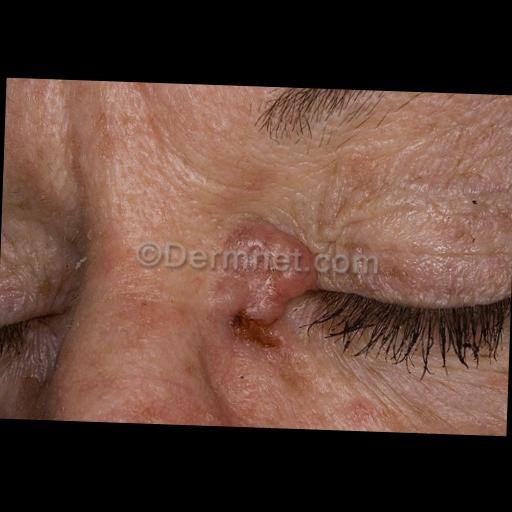Skin_Lesion: (202, 217, 312, 355)
